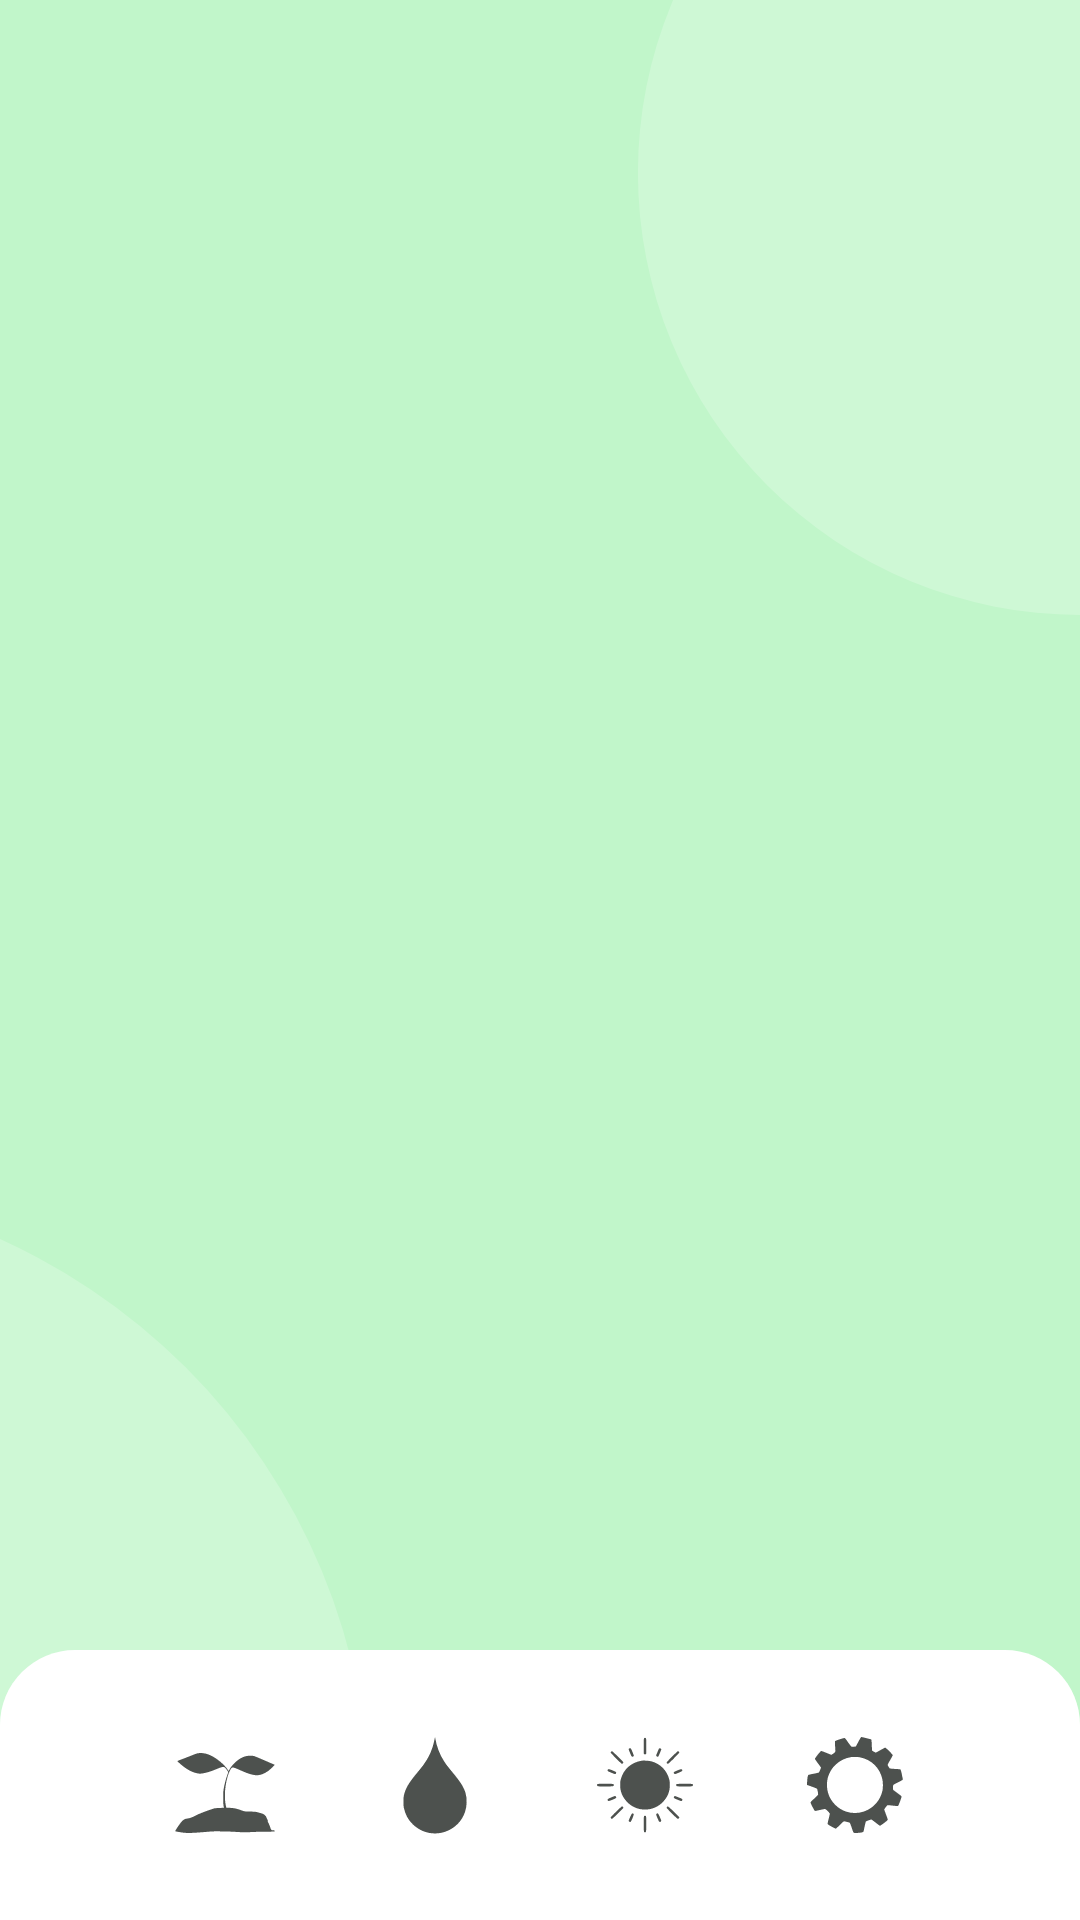

Icon click points for this 1080px x 1920px phone screenshot, format (x,y):
plant nav: (225,1793)
settings: (855,1785)
sun: (645,1785)
water: (435,1786)
